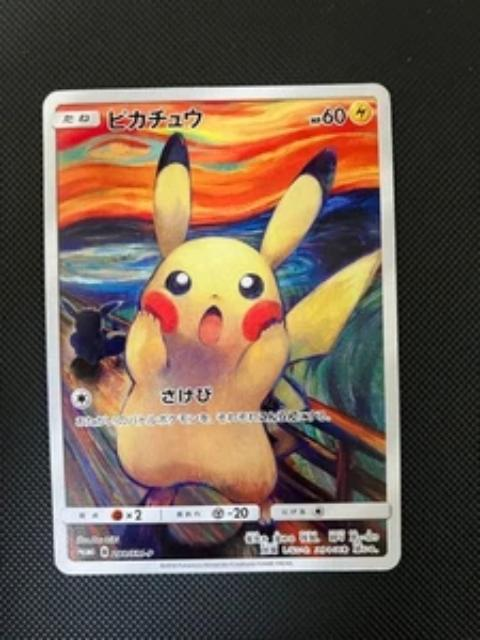Card: (39, 77, 409, 581)
Name: (105, 102, 207, 133)
